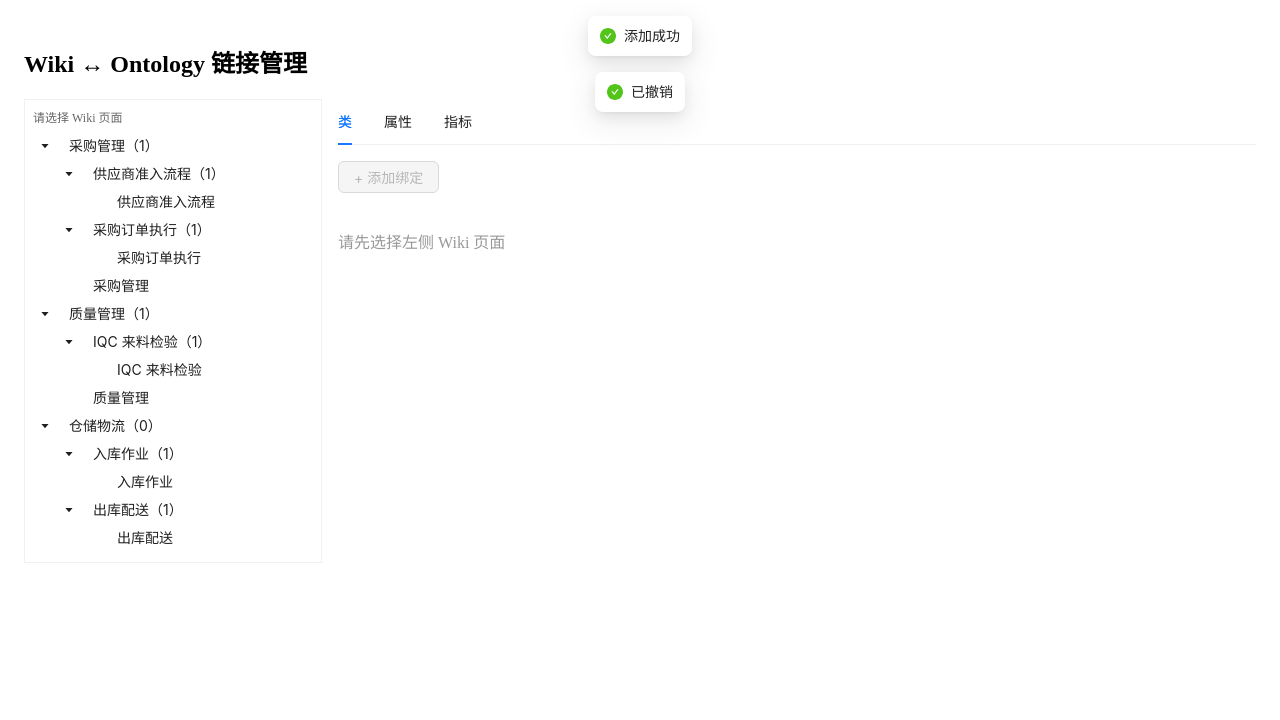
Scenario: WikiLinksPage 交互 › shows the chunk_id input only when scope=chunk is selected
The image size is (1280, 720).
What coordinates should you click on to do the following:
click the element showing "供应商准入流程"
I would click on:
 (166, 202)
Its box is x1=109 y1=190 x2=223 y2=214.
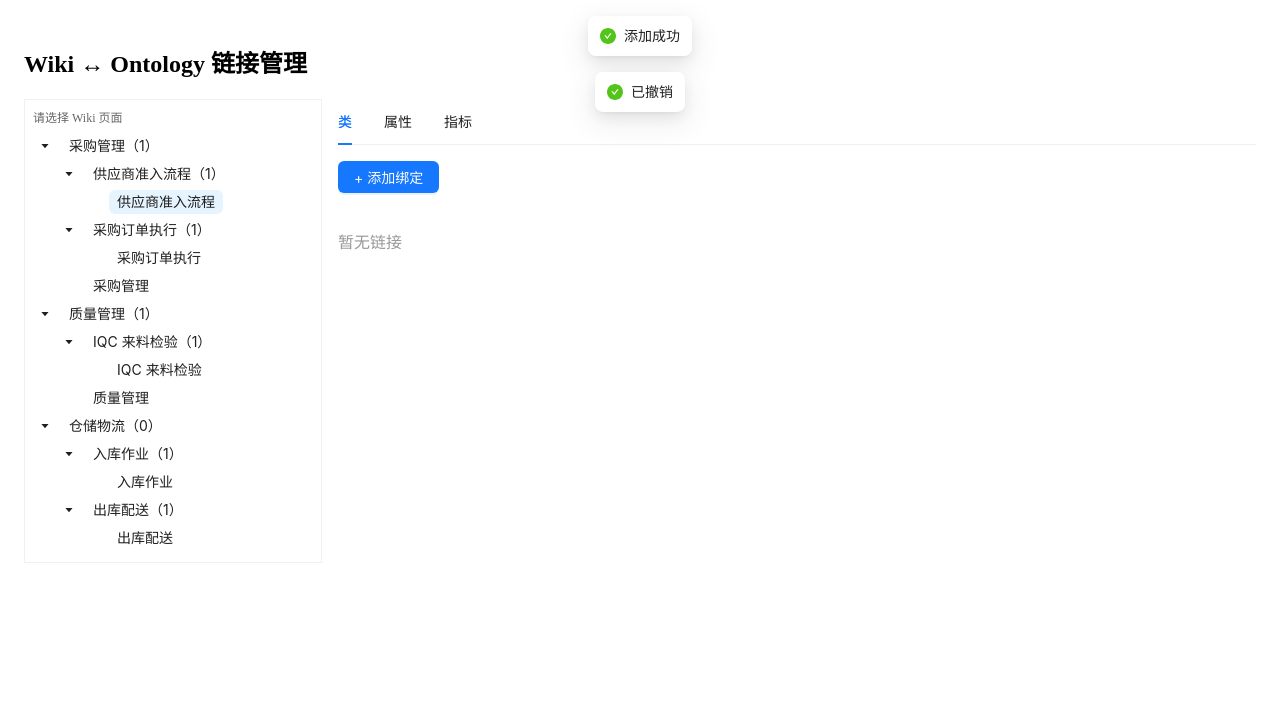
Expected: the button "+ 添加绑定" is enabled
What coordinates should you click on to do the following:
click the button "+ 添加绑定"
I would click on:
 (389, 177)
Its box is x1=338 y1=161 x2=439 y2=193.
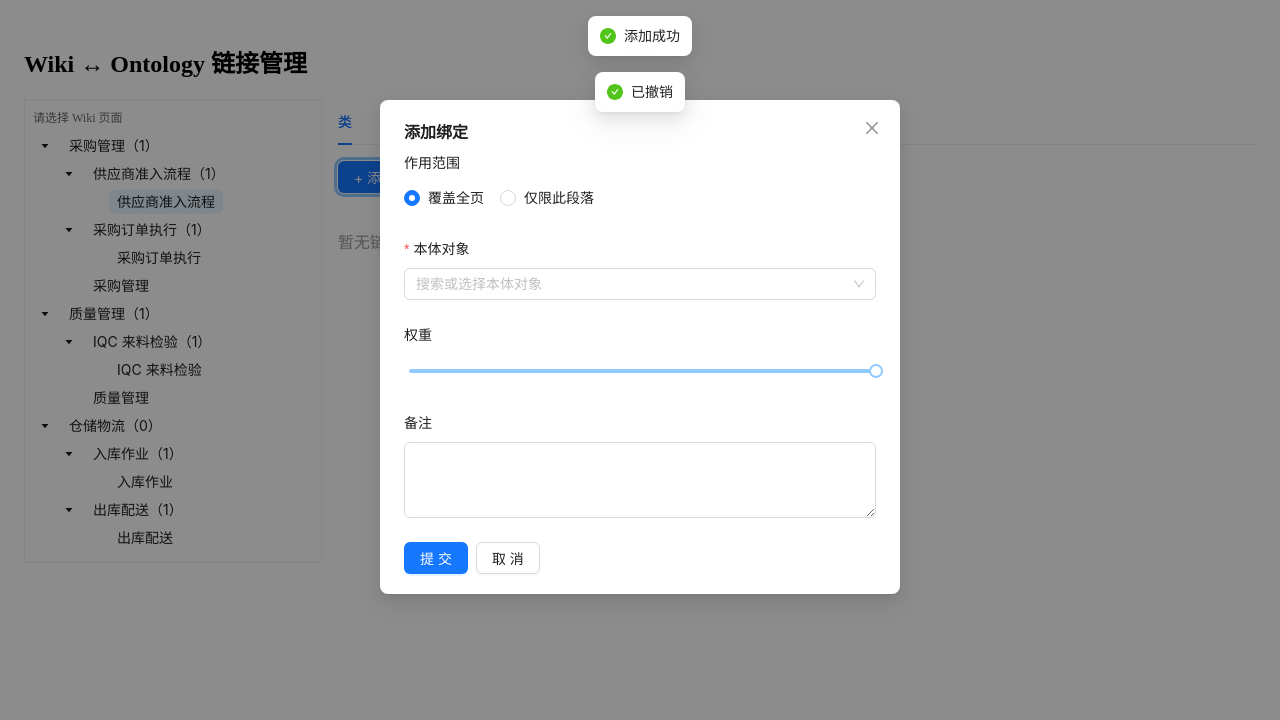
Expected: the field labelled "段落 ID" is not shown
What coordinates should you click on to do the following:
click the radio button labelled "仅限此段落"
I would click on:
 (551, 198)
Its box is x1=500 y1=187 x2=602 y2=209.
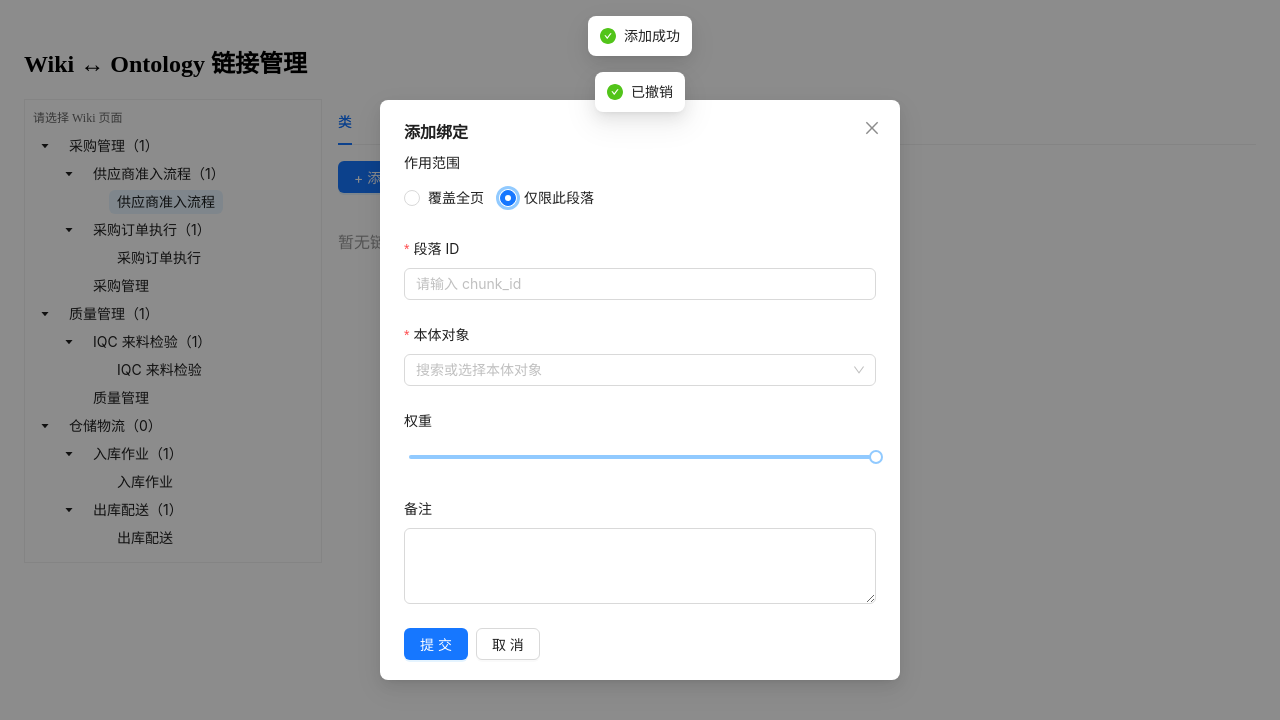
Expected: the field with placeholder "请输入 chunk_id" is shown, x1=404 y1=268 x2=876 y2=300
